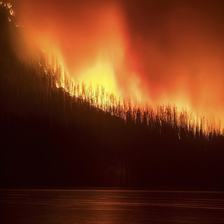fire: (26, 26, 218, 139)
